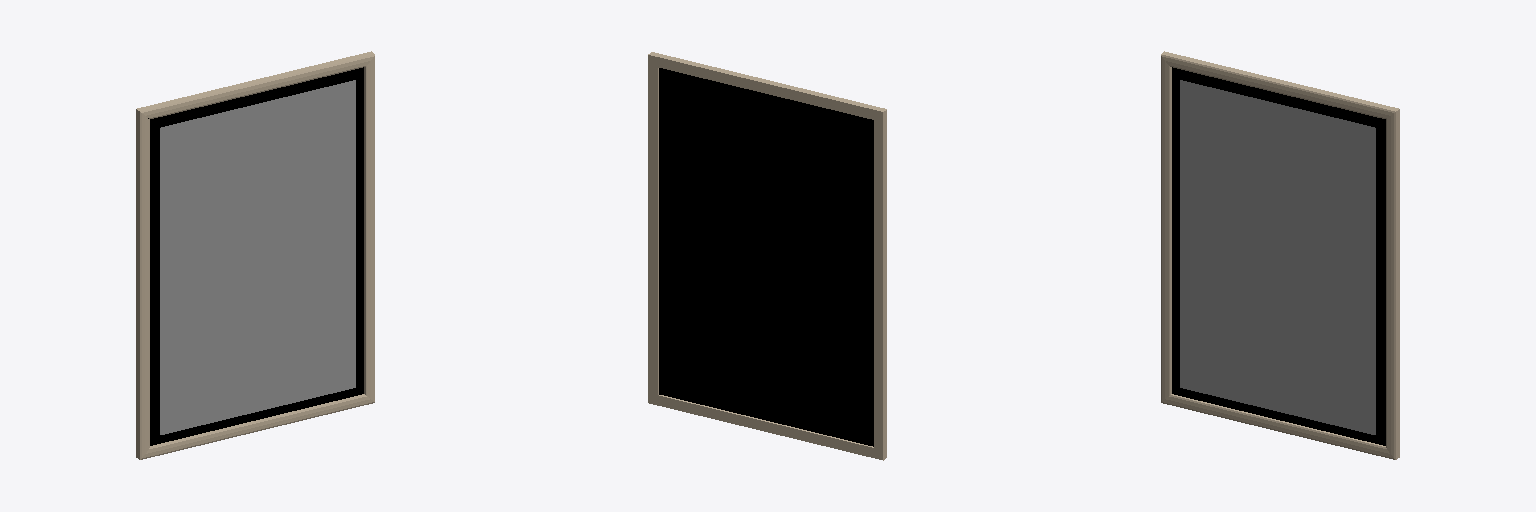
File: InariFrame.obj
3 renders of one model, left to right at view 1: azimuth 30°, elevation 25°; view 2: azimuth 150°, elevation 25°; view 3: azimuth 330°, elevation 25°, orthographic.
Parts seen in each view (by area): view 1: Photo_Cube_Material_Inari.jpg, MetalFrame_Cylinder_Aluminium.006, Frame_Black_Material.007; view 2: Frame_Black_Material.007, MetalFrame_Cylinder_Aluminium.006; view 3: Photo_Cube_Material_Inari.jpg, MetalFrame_Cylinder_Aluminium.006, Frame_Black_Material.007.
Boxes of the visible parts, box(x1,y1,x2,y2) form: Photo_Cube_Material_Inari.jpg: box(160, 80, 355, 434); MetalFrame_Cylinder_Aluminium.006: box(136, 51, 374, 459); Frame_Black_Material.007: box(148, 67, 363, 445); Frame_Black_Material.007: box(659, 68, 873, 446); MetalFrame_Cylinder_Aluminium.006: box(648, 52, 886, 460); Photo_Cube_Material_Inari.jpg: box(1180, 80, 1375, 434); MetalFrame_Cylinder_Aluminium.006: box(1161, 51, 1399, 459); Frame_Black_Material.007: box(1172, 67, 1385, 445).
Bounding box in the file's own units: 48 × 67.91 × 1.6.